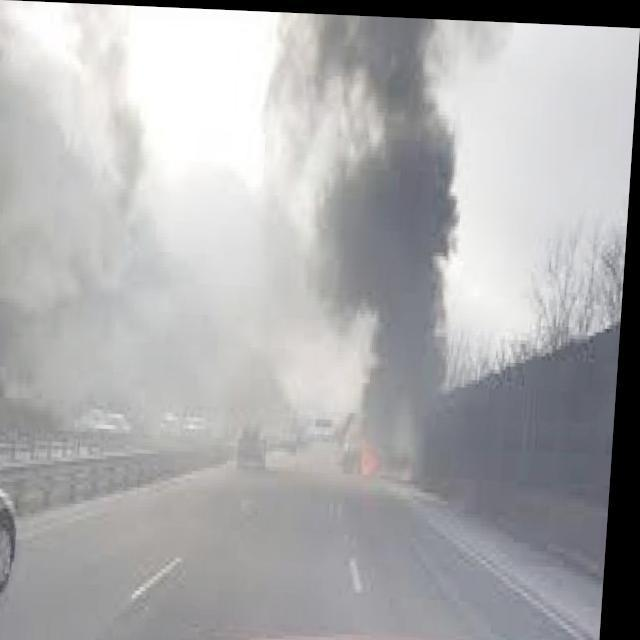Fire: (355, 418, 392, 486)
Smoke: (0, 0, 380, 503), (249, 10, 469, 485)
